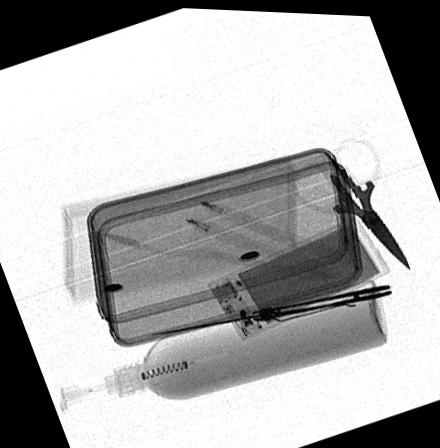Knife: (148, 278, 391, 335)
Powerbank: (206, 208, 395, 340)
Scissors: (287, 136, 411, 269)
